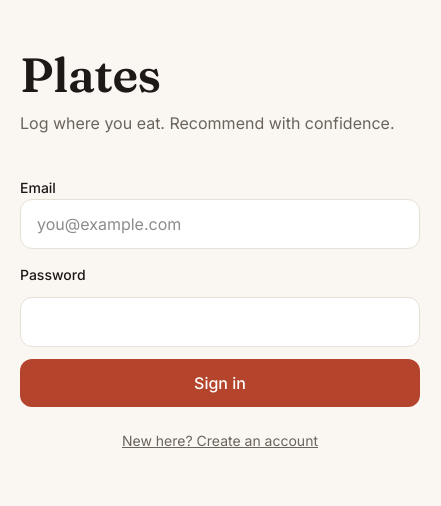
LoginPage (password mode) › creates an account, and explains when the project still wants email confirmation
Step 1. Click the button "New here? Create an account" → (220, 441), box [20, 419, 420, 463]
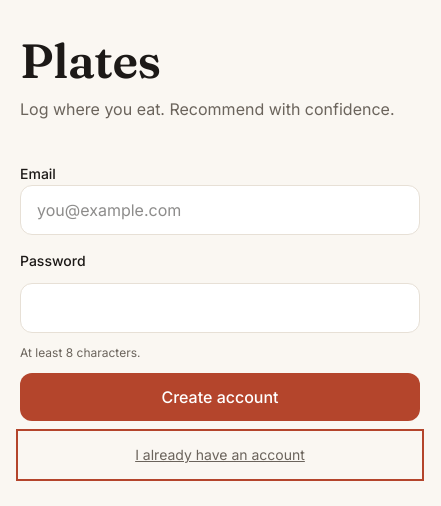
Step 2. Type "new@b.co" into the field labelled "Email" → (220, 210), box [20, 185, 420, 235]
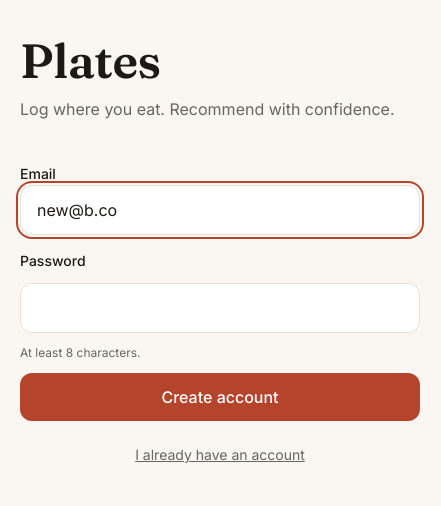
Step 3. Type "longenough1" into the password field labelled "Password" → (220, 308), box [20, 283, 420, 333]
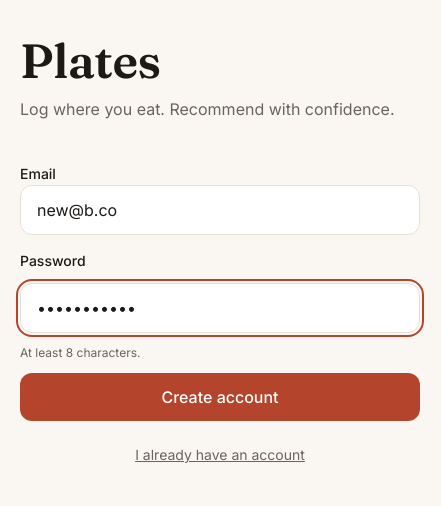
Step 4. Click the button "Create account" → (220, 397), box [20, 373, 420, 421]
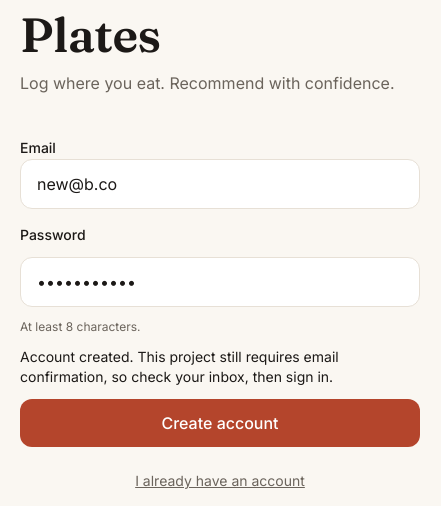
Expected: the text "requires email confirmation" is shown, [20, 348, 339, 385]
